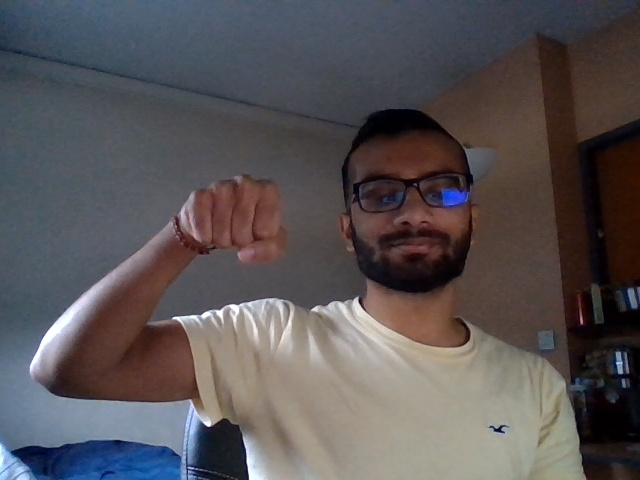Yes: (158, 164, 301, 280)
